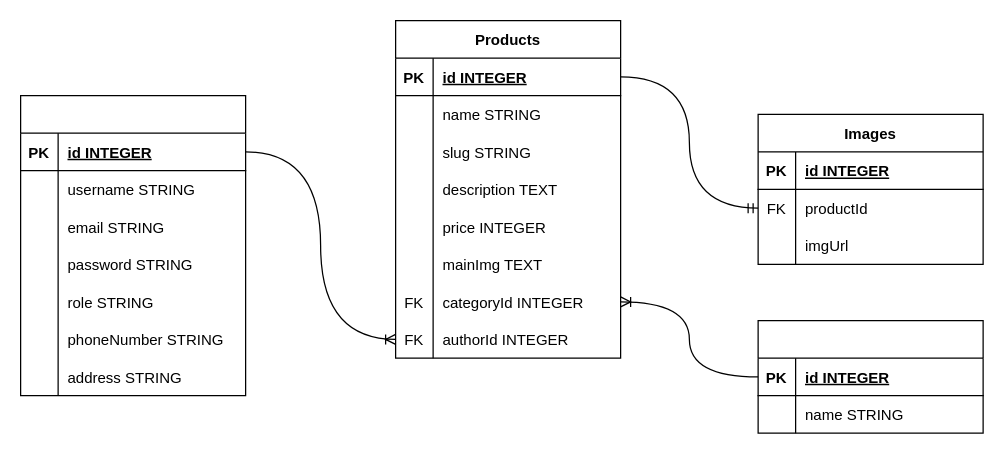
Some shapes in this 1004 by 454 pixel diagram are drawn without their labels. The box of each missing label's shape, as (x1, y1, x2, y2) in pixels:
Categories: (757, 319, 983, 433)
Users: (19, 94, 246, 396)
